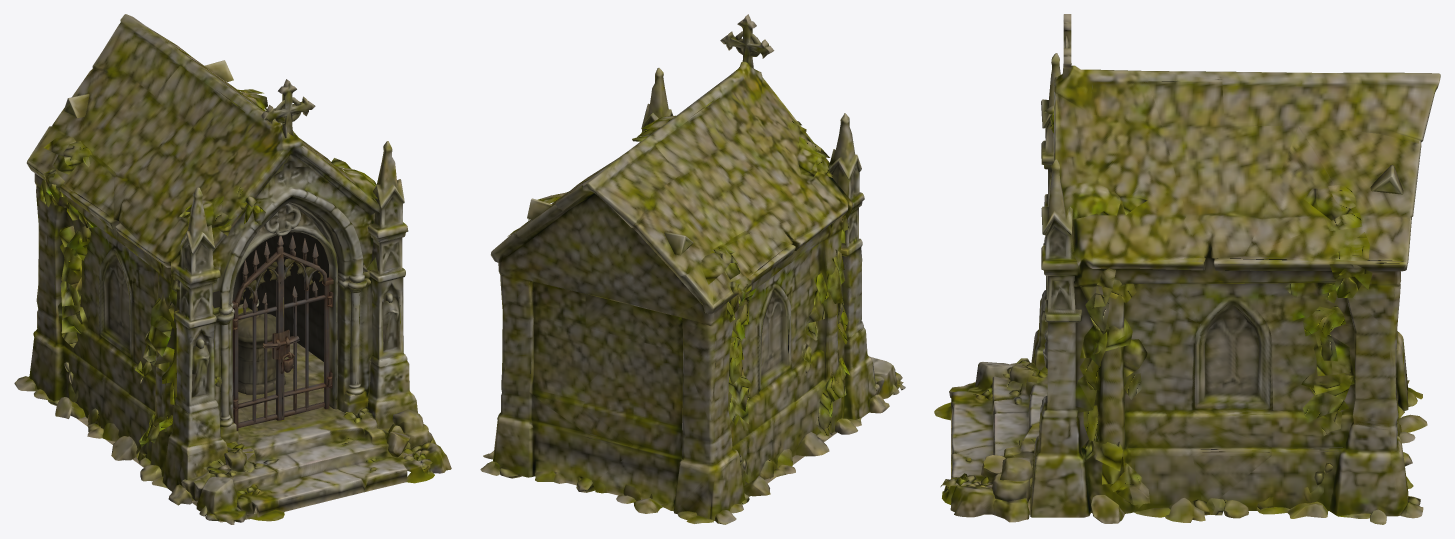
The model's file is graveyard_2.glb.
3 renders of one model, left to right at view 1: azimuth 30°, elevation 25°; view 2: azimuth 150°, elevation 25°; view 3: azimuth 270°, elevation 25°, orthographic. The views are drawn at different scales.
Parts seen in each view (by area): view 1: geometry_0; view 2: geometry_0; view 3: geometry_0.
Part boxes in pixels (x1=…): geometry_0: x1=14, y1=14, x2=451, y2=524; geometry_0: x1=480, y1=14, x2=905, y2=524; geometry_0: x1=934, y1=14, x2=1440, y2=524.
Size of the model in its own units: 0.6494 by 0.9058 by 0.9502.
1 material, 1 textured.
